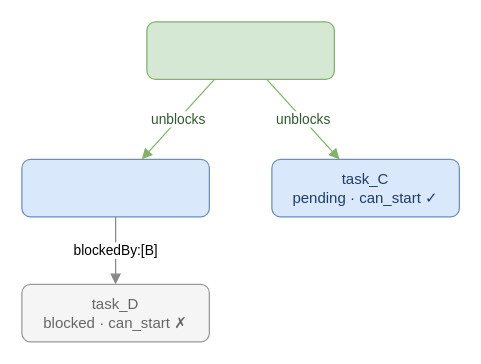
Some shapes in this 481 by 364 pixel diagram are drawn without their labels. The box of each missing label's shape, as (x1, y1, x2, y2) in pixels:
task_A completed: (146, 21, 334, 79)
task_B pending · can_start ✓: (21, 158, 209, 217)
